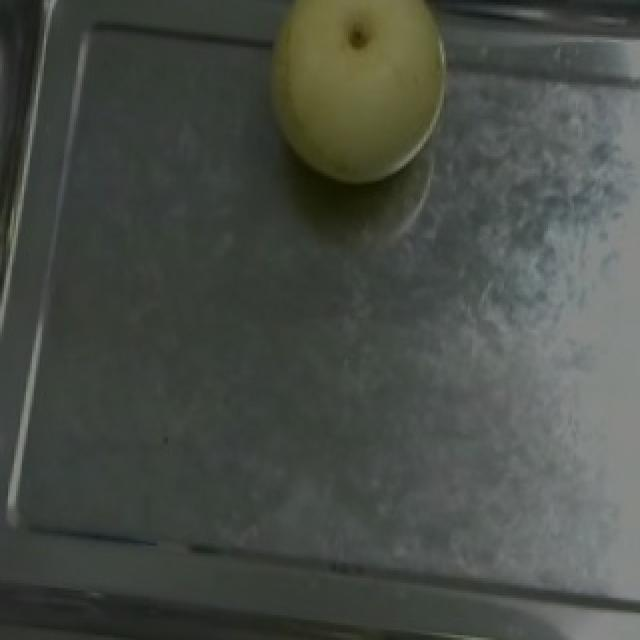Fruit: (244, 0, 460, 198)
